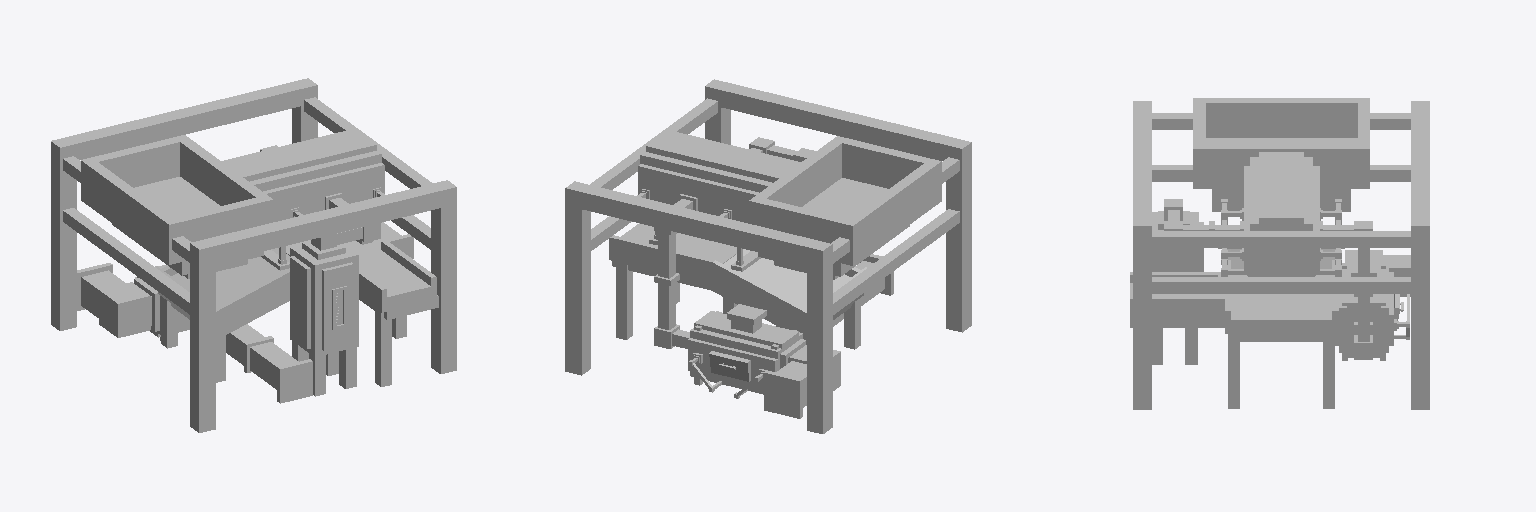
File: ore_washer.obj
3 views of the same model, side by side, from view 1: azimuth 30°, elevation 25°; view 2: azimuth 150°, elevation 25°; view 3: azimuth 270°, elevation 25° (orthographic).
Bounding box in the file's own units: 2.97 × 2.06 × 2.97.